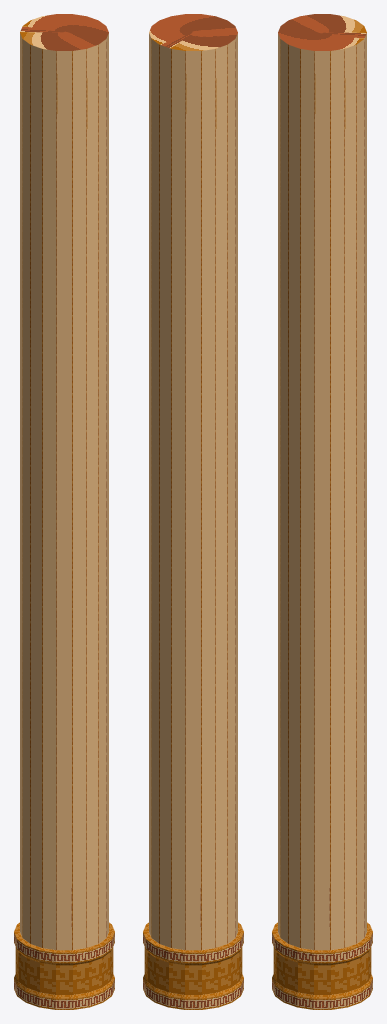
Rendered from pillar.fbx.
3 views of the same model, side by side, from view 1: azimuth 90°, elevation 25°; view 2: azimuth 150°, elevation 25°; view 3: azimuth 270°, elevation 25° (orthographic).
Parts seen in each view (by area): view 1: Cylinder; view 2: Cylinder; view 3: Cylinder.
Boxes of the visible parts, bbox=[...] form: Cylinder: bbox=[14, 14, 114, 1009]; Cylinder: bbox=[143, 14, 243, 1009]; Cylinder: bbox=[272, 14, 372, 1009].
Bounding box in the file's own units: 223 × 2369 × 227.
1 material, 1 textured.
